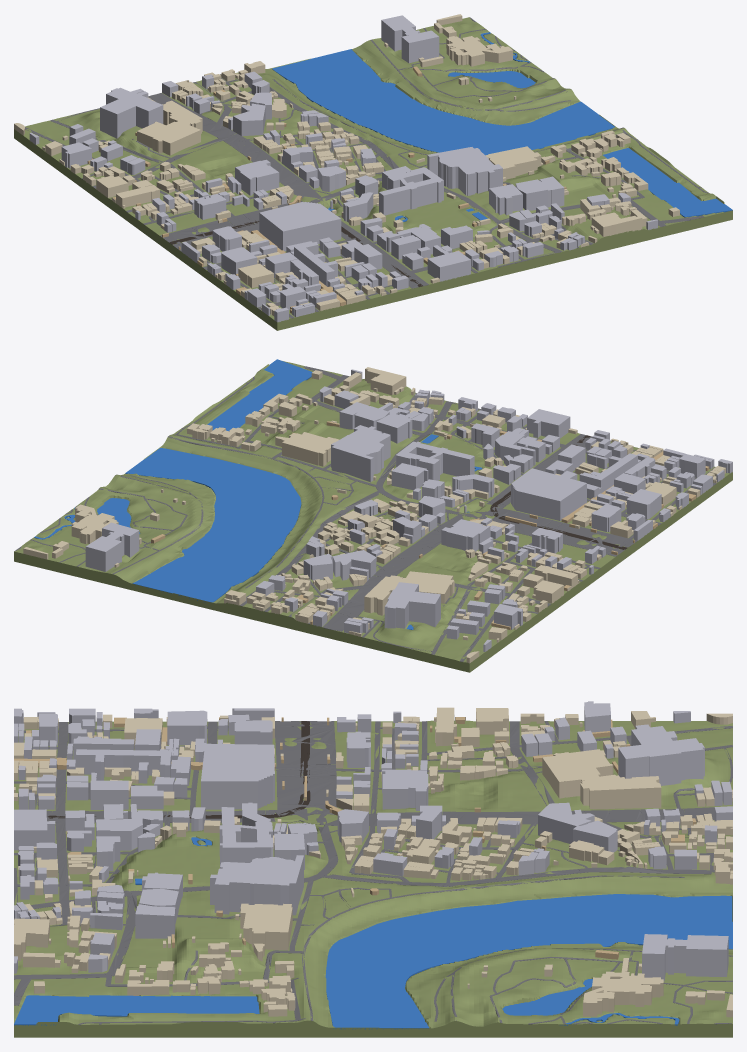
The model's file is ishiyama_west_bank_mm.dae.
The picture shows the model from 3 angles, top to bottom: view 1: azimuth 30°, elevation 25°; view 2: azimuth 150°, elevation 25°; view 3: azimuth 270°, elevation 25°; orthographic projection. The views are drawn at different scales.
Parts seen in each view (by area): view 1: Terrain, Water_01, Bldg_0449, Bldg_0450, Water_03, Bldg_0001, Bldg_0453, Bldg_0451, Bldg_0452, Bldg_0002, Bldg_0454, Bldg_0003 (+20 smaller); view 2: Terrain, Water_01, Bldg_0449, Bldg_0450, Water_03, Bldg_0451, Bldg_0453, Bldg_0452, Bldg_0001, Bldg_0003, Bldg_0454, Bldg_0002 (+19 smaller); view 3: Terrain, Water_01, Bldg_0001, Water_03, Bldg_0449, Bldg_0450, Bldg_0451, Bldg_0452, Bldg_0002, Bldg_0453, Bldg_0003, Bldg_0457 (+31 smaller).
Boxes of the visible parts, x1=… form: Terrain: x1=14, y1=17, x2=732, y2=330; Water_01: x1=272, y1=49, x2=614, y2=155; Bldg_0449: x1=259, y1=202, x2=341, y2=251; Bldg_0450: x1=427, y1=147, x2=502, y2=195; Water_03: x1=603, y1=148, x2=732, y2=217; Bldg_0001: x1=137, y1=100, x2=202, y2=155; Bldg_0453: x1=379, y1=167, x2=443, y2=215; Bldg_0451: x1=100, y1=87, x2=163, y2=138; Bldg_0452: x1=381, y1=15, x2=439, y2=63; Bldg_0002: x1=446, y1=36, x2=512, y2=66; Bldg_0454: x1=235, y1=159, x2=279, y2=195; Bldg_0003: x1=485, y1=146, x2=541, y2=179; Terrain: x1=14, y1=361, x2=732, y2=672; Water_01: x1=125, y1=448, x2=301, y2=602; Bldg_0449: x1=511, y1=468, x2=586, y2=520; Bldg_0450: x1=331, y1=425, x2=390, y2=482; Water_03: x1=207, y1=359, x2=312, y2=431; Bldg_0451: x1=384, y1=582, x2=440, y2=628; Bldg_0453: x1=396, y1=441, x2=474, y2=480; Bldg_0452: x1=85, y1=522, x2=139, y2=571; Bldg_0001: x1=364, y1=571, x2=454, y2=615; Bldg_0003: x1=282, y1=432, x2=339, y2=466; Bldg_0454: x1=441, y1=519, x2=490, y2=551; Bldg_0002: x1=71, y1=504, x2=118, y2=543; Terrain: x1=14, y1=720, x2=732, y2=1037; Water_01: x1=325, y1=894, x2=732, y2=1029; Bldg_0001: x1=542, y1=749, x2=661, y2=809; Water_03: x1=14, y1=995, x2=259, y2=1025; Bldg_0449: x1=201, y1=743, x2=274, y2=809; Bldg_0450: x1=210, y1=855, x2=303, y2=915; Bldg_0451: x1=618, y1=726, x2=704, y2=785; Bldg_0452: x1=642, y1=934, x2=728, y2=981; Bldg_0002: x1=583, y1=971, x2=663, y2=1016; Bldg_0453: x1=219, y1=807, x2=273, y2=866; Bldg_0003: x1=240, y1=903, x2=292, y2=950; Bldg_0457: x1=75, y1=749, x2=171, y2=780.
Size of the model in its own units: 600000 by 600000 by 45122.
